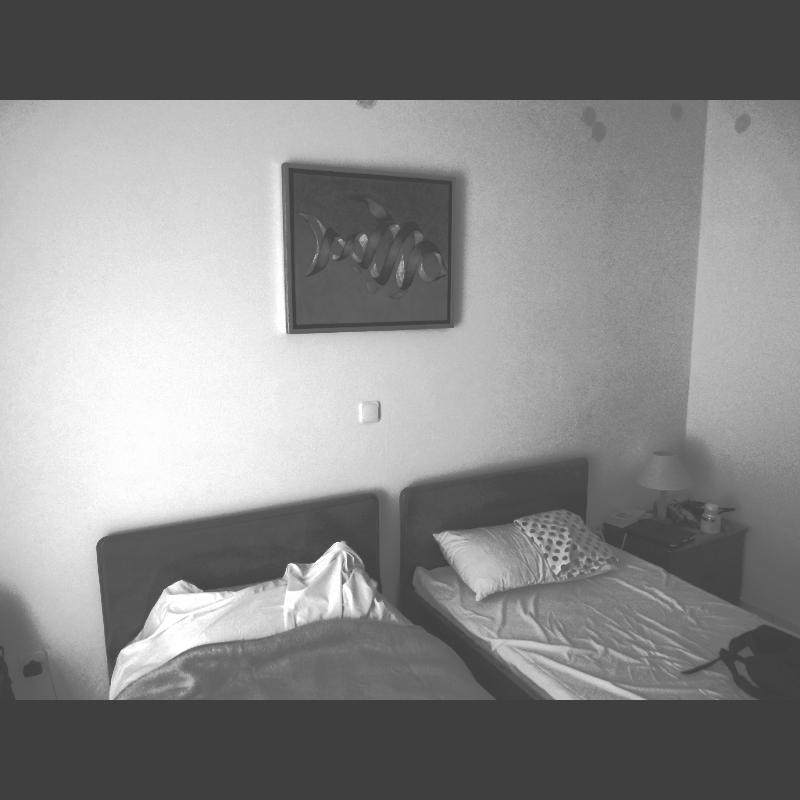pillow: (430, 506, 612, 602)
